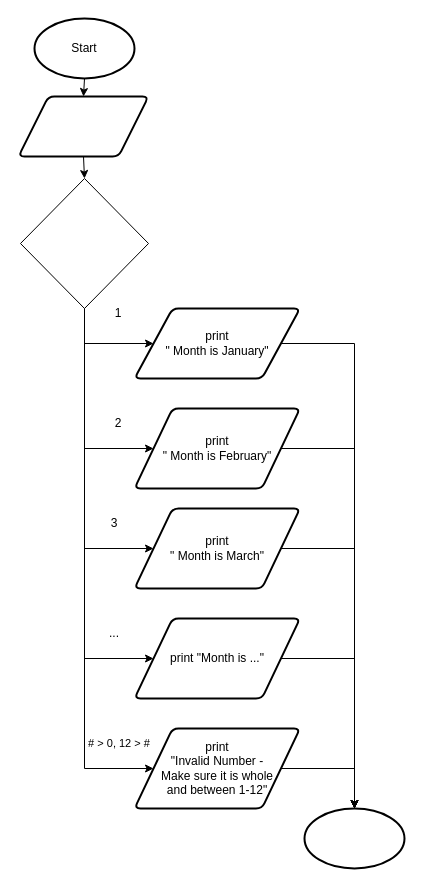
Some shapes in this 422 by 886 pixel diagram are drawn without their labels. The shapes that lost their labels are listed below. From the top down, each one's centre as x and y in pixels, then its label:
(83,126): Get month_number
(84,243): select (month_number)
(354,838): Stop
